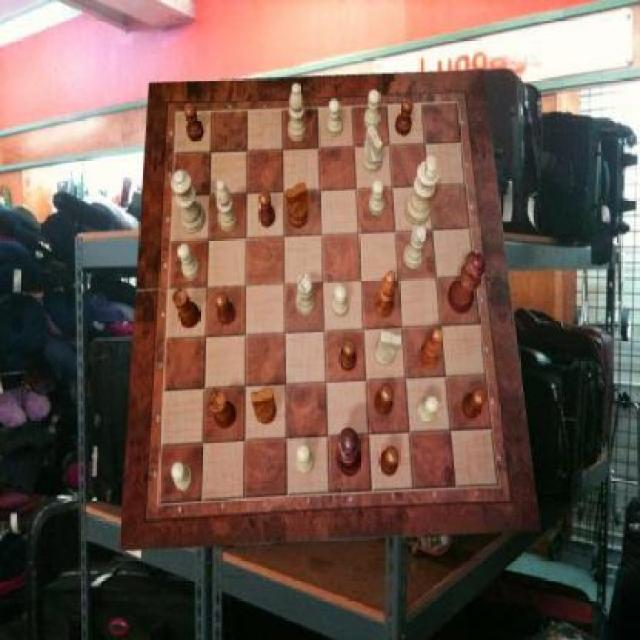bishop: (374, 271, 396, 318), (419, 329, 443, 372)
black-bishop: (337, 429, 361, 477)
black-king: (288, 183, 308, 229), (252, 388, 277, 424)
black-knight: (184, 103, 204, 142), (463, 388, 488, 418), (216, 290, 237, 324), (395, 97, 413, 135), (260, 189, 277, 227), (374, 385, 394, 417), (380, 446, 400, 477), (339, 340, 356, 372)
black-pawn: (448, 251, 485, 313)
black-queen: (172, 288, 200, 329), (210, 392, 238, 428)
black-rook: (215, 178, 238, 232), (288, 83, 307, 142)
white-bishop: (405, 156, 440, 227)
white-king: (362, 126, 382, 174), (376, 331, 402, 367)
white-knight: (177, 244, 200, 280), (417, 397, 440, 425), (296, 444, 316, 476), (364, 91, 380, 131), (171, 463, 193, 492), (369, 180, 386, 216), (328, 100, 344, 138), (332, 285, 350, 317)
white-pawn: (171, 170, 206, 234)
white-queen: (403, 225, 426, 270), (296, 275, 316, 317)
